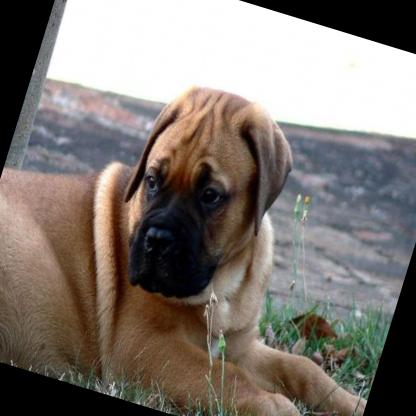bull_mastiff: (0, 35, 416, 416)
